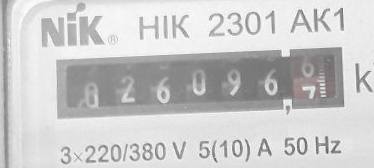0: (187, 64, 209, 100), (80, 77, 101, 110)
2: (116, 71, 138, 107)
6: (153, 72, 173, 107), (260, 64, 280, 98), (297, 52, 317, 80)
7: (299, 81, 318, 103)
9: (223, 65, 244, 98)
screen: (45, 37, 353, 131)
